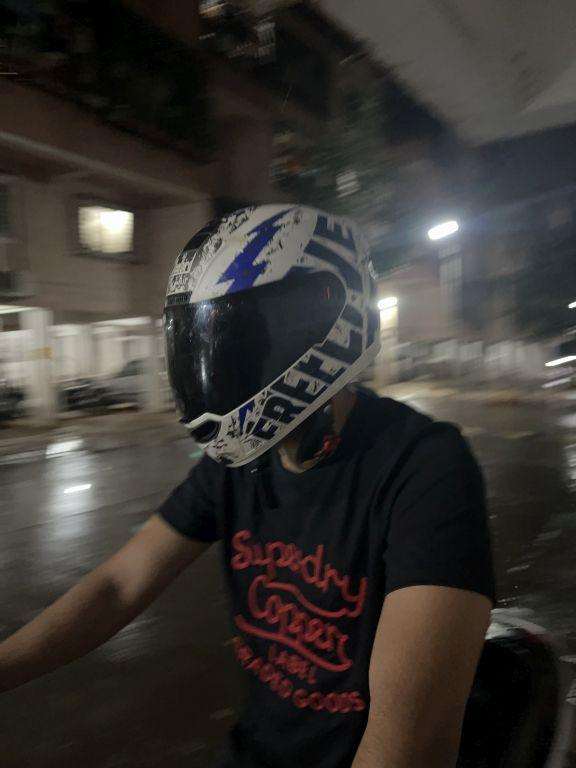helmet: (152, 182, 396, 491)
